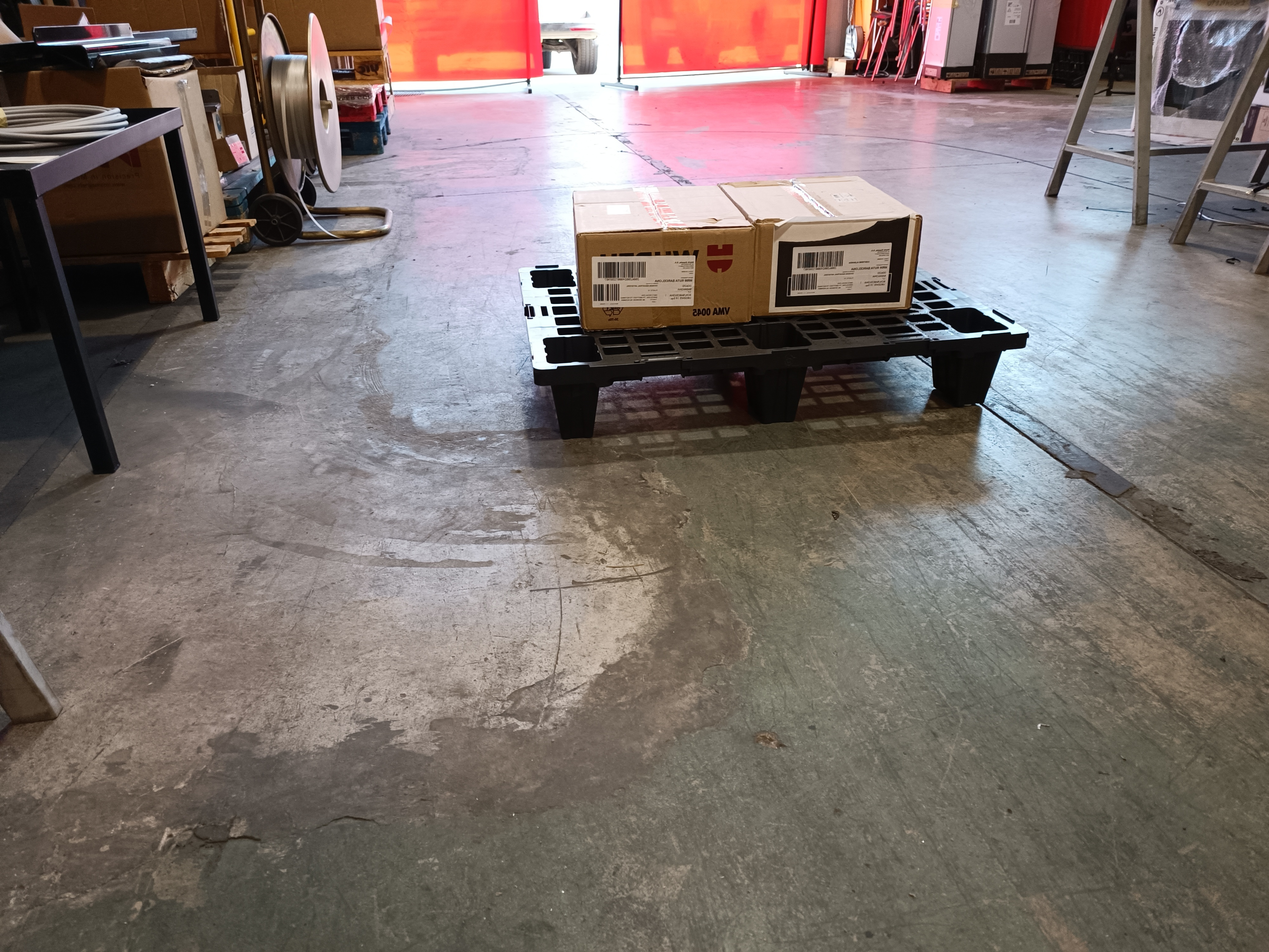block: (928, 341, 1003, 416), (733, 360, 806, 431), (541, 375, 604, 438)
front: (534, 331, 1028, 433)
hole pallet: (588, 373, 751, 432), (799, 354, 944, 414)
